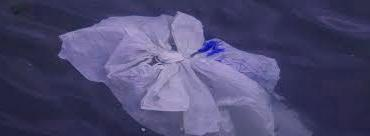Trash: (31, 14, 314, 127)
